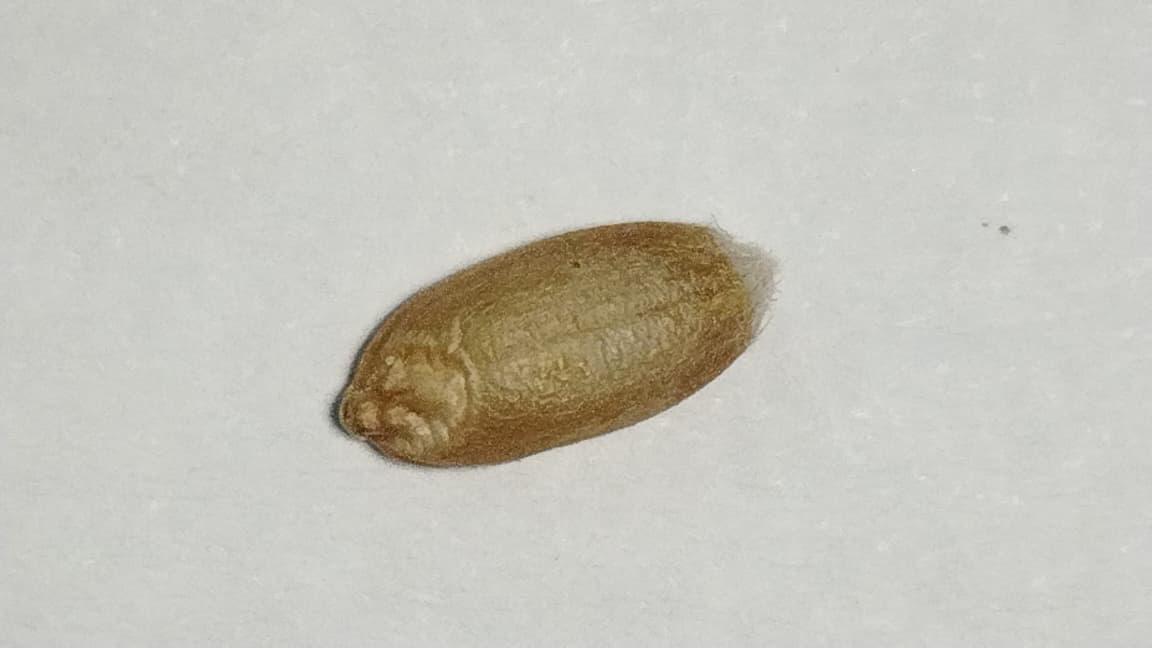healthy: (336, 221, 775, 463)
